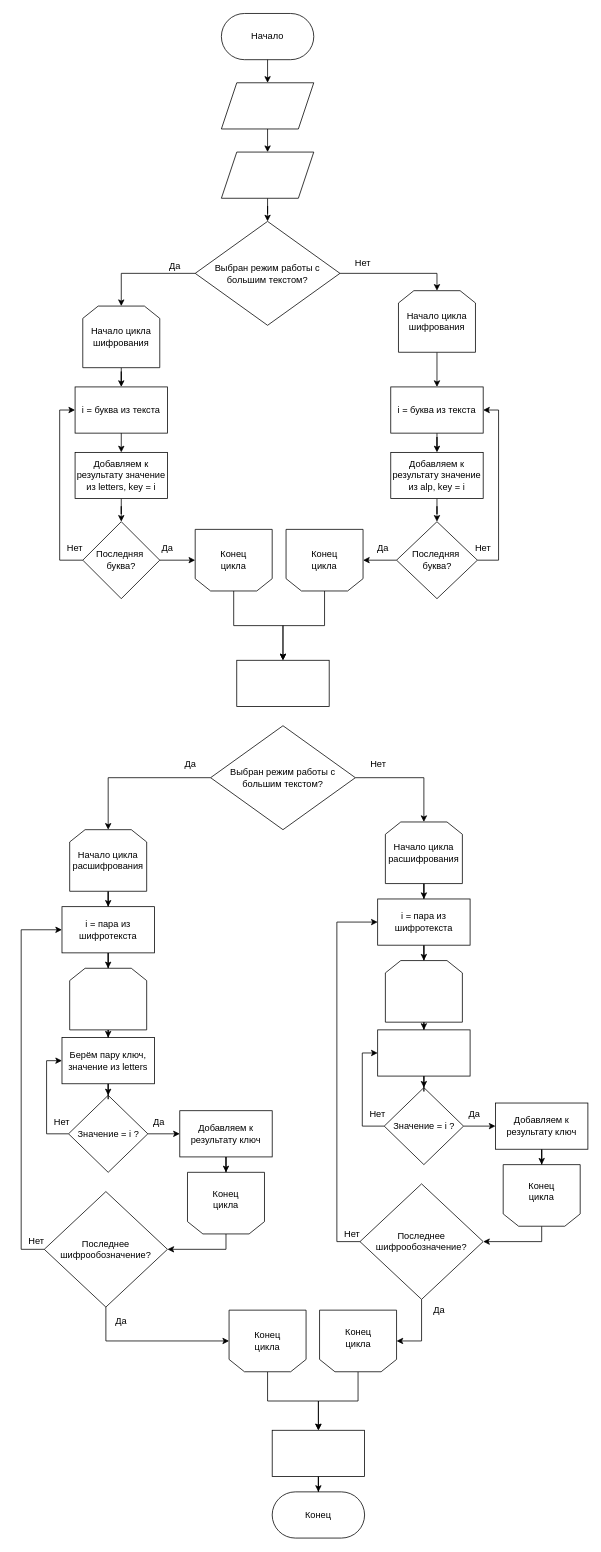
Some shapes in this 601 by 1552 pixel diagram are drawn without their labels. The box of each missing label's shape, as (x1, y1, x2, y2) in pixels:
Берём пару ключ, значение из alp: (377, 1029, 470, 1076)
Ввод текста: (221, 82, 314, 129)
Выбор режима работы: (221, 151, 314, 198)
Выводим зашифрованный текст: (236, 660, 329, 706)
Выводим результат расшифрования: (271, 1430, 365, 1476)
Начало цикла перебора значений из alp: (385, 960, 462, 1022)
Начало цикла перебора значений из letters: (69, 968, 147, 1030)
